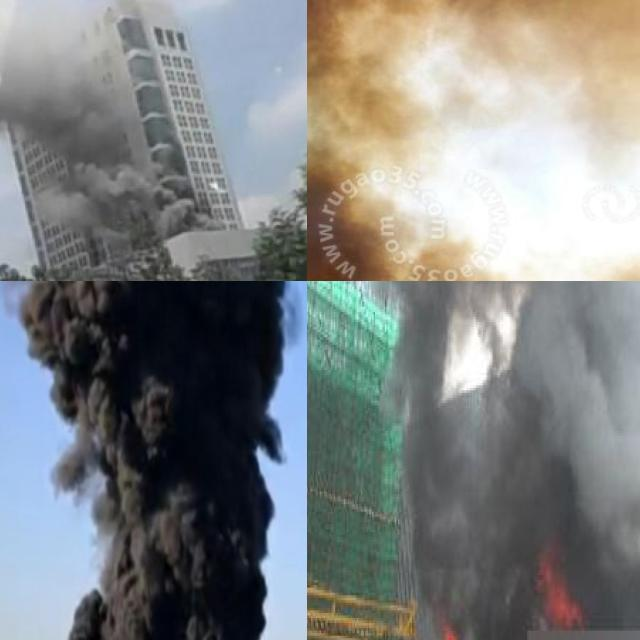fire: (540, 560, 580, 623), (441, 623, 463, 640)
smoke: (0, 281, 307, 640), (361, 281, 640, 640), (307, 0, 640, 281), (0, 0, 131, 156), (29, 157, 208, 245)
